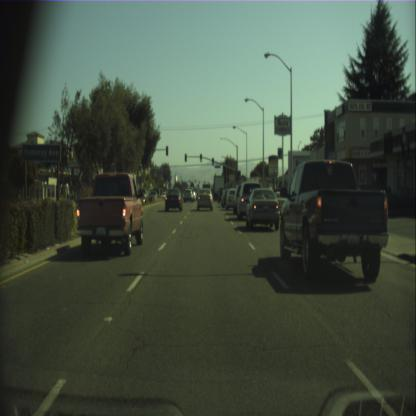Green: (199, 152, 203, 163), (211, 156, 214, 166)
off: (166, 146, 168, 155), (184, 154, 186, 162)
